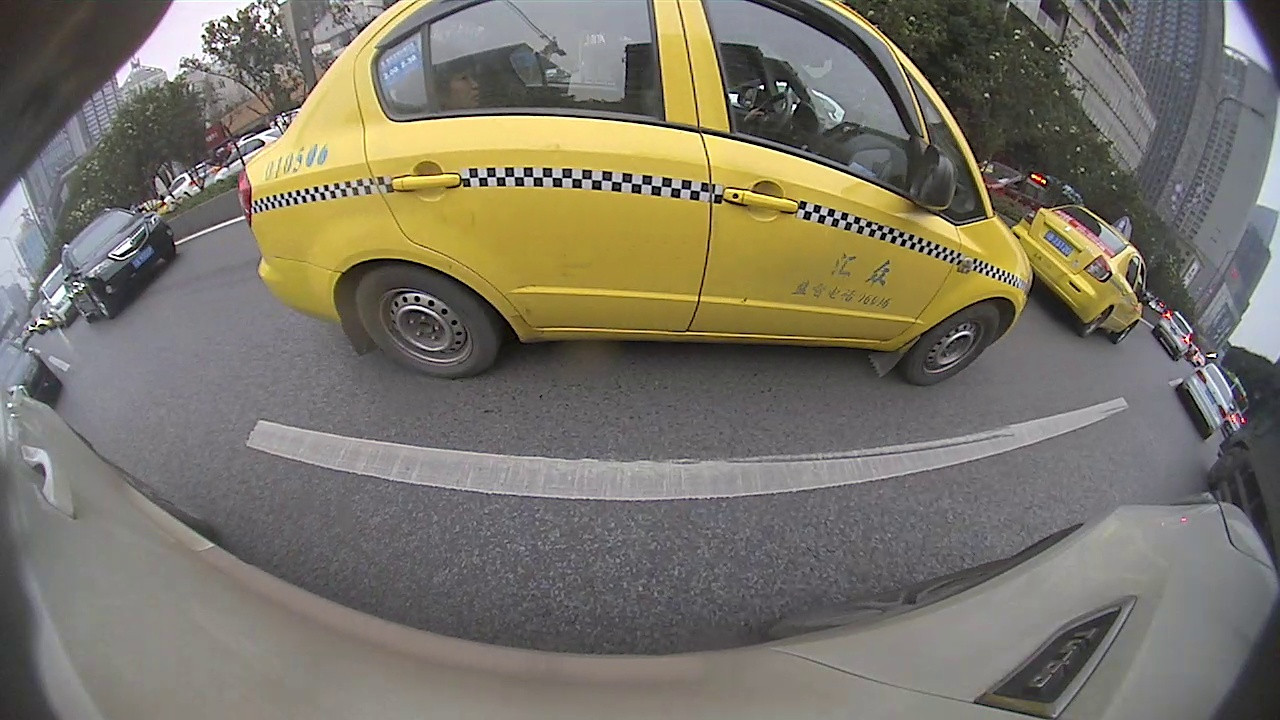car: (235, 3, 1032, 389), (1012, 202, 1146, 345), (57, 208, 179, 323), (1173, 364, 1235, 440), (1151, 310, 1195, 362)
front: (907, 303, 1002, 388), (83, 282, 114, 320)
rear: (353, 266, 499, 379), (1081, 308, 1111, 339)
